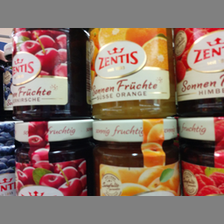jam: (89, 29, 177, 117), (11, 28, 90, 120), (92, 120, 181, 196), (13, 120, 92, 195), (173, 28, 223, 117), (177, 117, 224, 195)
